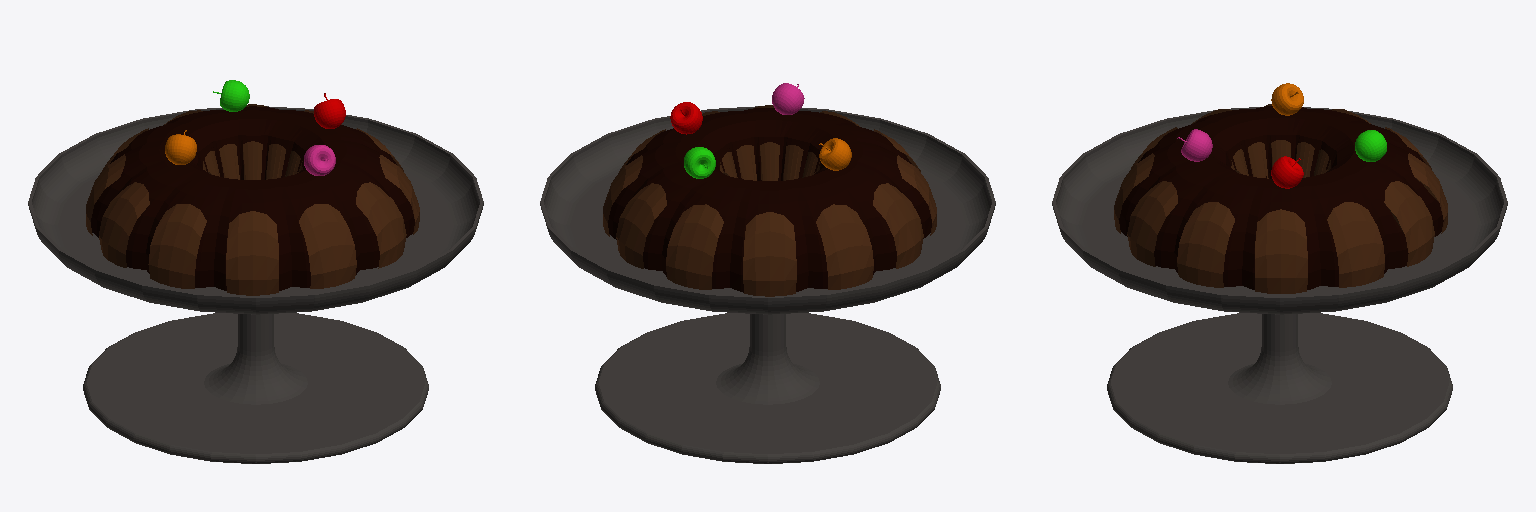
The model's file is pudding.obj.
3 renders of one model, left to right at view 1: azimuth 30°, elevation 25°; view 2: azimuth 150°, elevation 25°; view 3: azimuth 270°, elevation 25°, orthographic.
Visible parts, largest first — view 1: 3d-model.008, 3d-model.002, 3d-model.001, 3d-model.005, 3d-model.004, 3d-model.006, 3d-model.003; view 2: 3d-model.008, 3d-model.002, 3d-model.001, 3d-model.006, 3d-model.004, 3d-model.003, 3d-model.005; view 3: 3d-model.008, 3d-model.002, 3d-model.001, 3d-model.004, 3d-model.003, 3d-model.006, 3d-model.005.
Boxes of the visible parts, <box> form: 3d-model.008: <box>28,106,483,463</box>; 3d-model.002: <box>91,106,414,290</box>; 3d-model.001: <box>86,104,419,295</box>; 3d-model.005: <box>304,145,335,175</box>; 3d-model.004: <box>165,130,196,164</box>; 3d-model.006: <box>314,93,345,128</box>; 3d-model.003: <box>213,80,249,111</box>; 3d-model.008: <box>540,106,995,463</box>; 3d-model.002: <box>608,108,931,292</box>; 3d-model.001: <box>603,105,936,296</box>; 3d-model.006: <box>670,102,702,134</box>; 3d-model.004: <box>819,138,851,170</box>; 3d-model.003: <box>684,147,715,178</box>; 3d-model.005: <box>772,83,804,114</box>; 3d-model.008: <box>1052,107,1507,463</box>; 3d-model.002: <box>1119,106,1443,289</box>; 3d-model.001: <box>1114,104,1447,293</box>; 3d-model.004: <box>1271,83,1303,115</box>; 3d-model.003: <box>1355,130,1386,161</box>; 3d-model.006: <box>1271,156,1303,188</box>; 3d-model.005: <box>1177,129,1212,161</box>.
Size of the model in its own units: 0.2109 by 0.1395 by 0.2109.